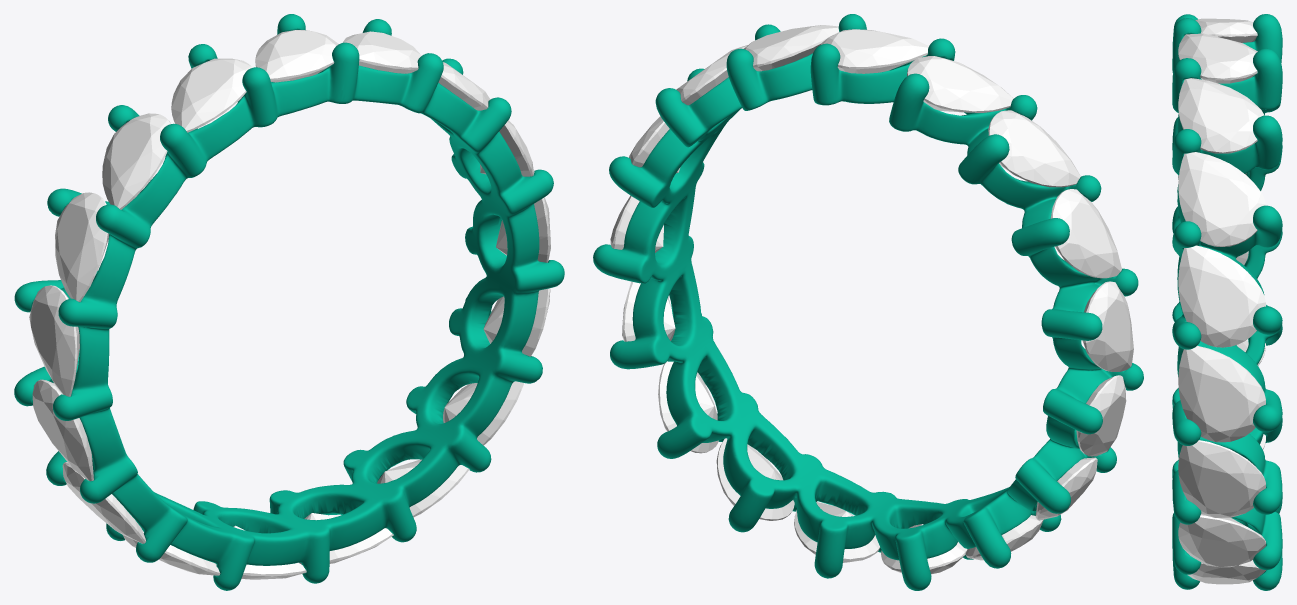
The model's file is BE2D9988LC_RENDER.glb.
3 views of the same model, side by side, from view 1: azimuth 30°, elevation 25°; view 2: azimuth 150°, elevation 25°; view 3: azimuth 270°, elevation 25° (orthographic).
Visible parts, largest first — view 1: Metal03, Diamond_Pear_Gem_BD.002, Diamond_Pear_Gem_BD.003, Diamond_Pear_Gem_BD.001, Diamond_Pear_Gem_BD.004, Diamond_Pear_Gem_BD, Diamond_Pear_Gem_BD.005, Diamond_Pear_Gem_BD.016, Diamond_Pear_Gem_BD.006, Diamond_Pear_Gem_BD.011, Diamond_Pear_Gem_BD.012, Diamond_Pear_Gem_BD.010 (+6 smaller); view 2: Metal03, Diamond_Pear_Gem_BD.002, Diamond_Pear_Gem_BD.003, Diamond_Pear_Gem_BD.001, Diamond_Pear_Gem_BD, Diamond_Pear_Gem_BD.004, Diamond_Pear_Gem_BD.016, Diamond_Pear_Gem_BD.005, Diamond_Pear_Gem_BD.010, Diamond_Pear_Gem_BD.011, Diamond_Pear_Gem_BD.006, Diamond_Pear_Gem_BD.015 (+6 smaller); view 3: Metal03, Diamond_Pear_Gem_BD.014, Diamond_Pear_Gem_BD.013, Diamond_Pear_Gem_BD.015, Diamond_Pear_Gem_BD.012, Diamond_Pear_Gem_BD.016, Diamond_Pear_Gem_BD.011, Diamond_Pear_Gem_BD, Diamond_Pear_Gem_BD.010, Diamond_Pear_Gem_BD.001.
Part boxes in pixels (x1,y1,x2,y2): Metal03: (14,14,564,590); Diamond_Pear_Gem_BD.002: (102,113,170,209); Diamond_Pear_Gem_BD.003: (55,192,109,301); Diamond_Pear_Gem_BD.001: (171,58,252,132); Diamond_Pear_Gem_BD.004: (29,285,79,396); Diamond_Pear_Gem_BD: (255,30,338,82); Diamond_Pear_Gem_BD.005: (32,379,93,481); Diamond_Pear_Gem_BD.016: (343,31,421,73); Diamond_Pear_Gem_BD.006: (62,462,145,543); Diamond_Pear_Gem_BD.011: (443,381,524,445); Diamond_Pear_Gem_BD.012: (483,288,550,356); Diamond_Pear_Gem_BD.010: (377,459,469,517); Metal03: (593,14,1143,590); Diamond_Pear_Gem_BD.002: (988,110,1080,187); Diamond_Pear_Gem_BD.003: (1050,189,1121,278); Diamond_Pear_Gem_BD.001: (907,56,1013,112); Diamond_Pear_Gem_BD: (820,29,928,73); Diamond_Pear_Gem_BD.004: (1082,281,1133,371); Diamond_Pear_Gem_BD.016: (744,25,839,71); Diamond_Pear_Gem_BD.005: (1076,375,1126,456); Diamond_Pear_Gem_BD.010: (716,438,794,520); Diamond_Pear_Gem_BD.011: (658,361,718,453); Diamond_Pear_Gem_BD.006: (1035,457,1097,520); Diamond_Pear_Gem_BD.015: (676,45,747,105); Metal03: (1172,14,1282,590); Diamond_Pear_Gem_BD.014: (1178,245,1265,347); Diamond_Pear_Gem_BD.013: (1178,345,1265,442); Diamond_Pear_Gem_BD.015: (1178,152,1265,246); Diamond_Pear_Gem_BD.012: (1178,440,1265,517); Diamond_Pear_Gem_BD.016: (1178,78,1264,153); Diamond_Pear_Gem_BD.011: (1178,514,1265,567); Diamond_Pear_Gem_BD: (1178,33,1257,83); Diamond_Pear_Gem_BD.010: (1187,560,1265,584); Diamond_Pear_Gem_BD.001: (1195,18,1257,42).
Bounding box in the file's own units: 20.72 × 20.74 × 3.96.
